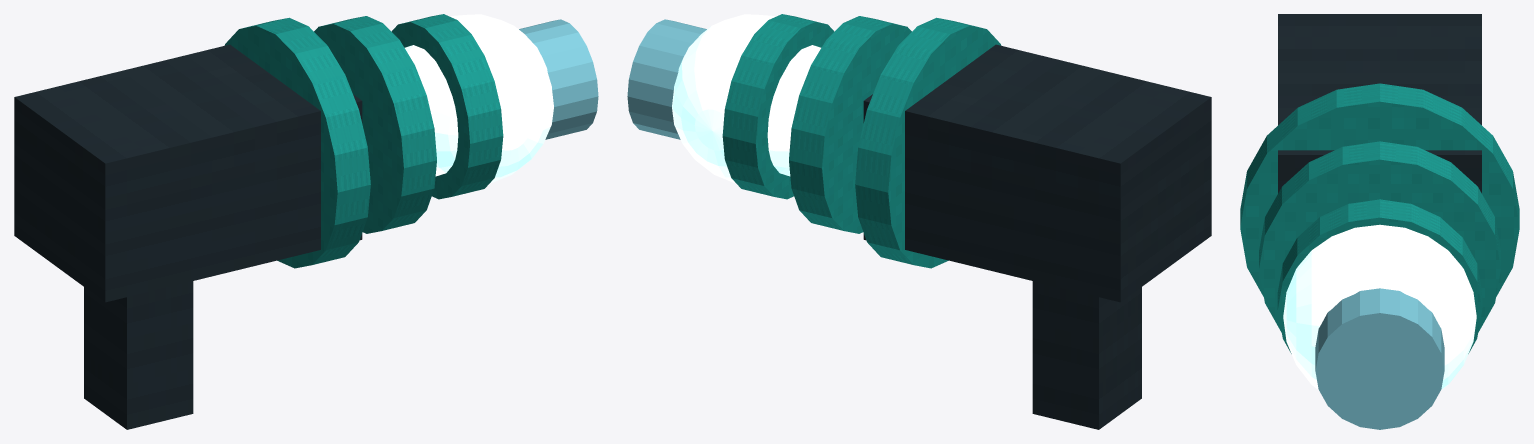
The model's file is bp_weaponpulse.glb.
3 views of the same model, side by side, from view 1: azimuth 30°, elevation 25°; view 2: azimuth 150°, elevation 25°; view 3: azimuth 270°, elevation 25° (orthographic). The views are drawn at different scales.
Visible parts, largest first — view 1: PulseBody, PulseCoil.001, Grip.005, PulseCoil, EnergyCore, PulseCoil.002, Emitter; view 2: PulseBody, PulseCoil.001, Grip.005, PulseCoil, EnergyCore, PulseCoil.002, Emitter; view 3: PulseBody, PulseCoil, PulseCoil.001, EnergyCore, Emitter, PulseCoil.002.
Part boxes in pixels (x1=…): PulseBody: x1=14, y1=44, x2=362, y2=302; PulseCoil.001: x1=314, y1=16, x2=436, y2=233; Grip.005: x1=84, y1=281, x2=193, y2=429; PulseCoil: x1=224, y1=17, x2=370, y2=268; EnergyCore: x1=405, y1=14, x2=553, y2=182; PulseCoil.002: x1=391, y1=14, x2=503, y2=199; Emitter: x1=519, y1=19, x2=598, y2=139; PulseBody: x1=863, y1=44, x2=1211, y2=302; PulseCoil.001: x1=789, y1=16, x2=911, y2=233; Grip.005: x1=1032, y1=281, x2=1141, y2=429; PulseCoil: x1=855, y1=17, x2=1001, y2=268; EnergyCore: x1=672, y1=14, x2=820, y2=182; PulseCoil.002: x1=722, y1=14, x2=834, y2=199; Emitter: x1=627, y1=19, x2=706, y2=139; PulseBody: x1=1278, y1=14, x2=1481, y2=193; PulseCoil: x1=1240, y1=83, x2=1519, y2=296; PulseCoil.001: x1=1259, y1=141, x2=1500, y2=332; EnergyCore: x1=1283, y1=224, x2=1476, y2=390; Emitter: x1=1315, y1=288, x2=1444, y2=429; PulseCoil.002: x1=1277, y1=199, x2=1482, y2=353.
Size of the model in its own units: 1.23 by 0.78 by 0.52.
4 materials, 2 textured.
